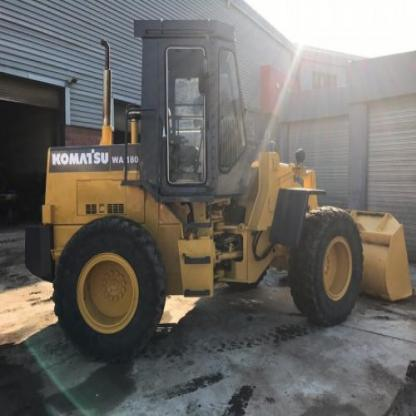bull_dozer/loader/grader: (21, 17, 415, 360)
